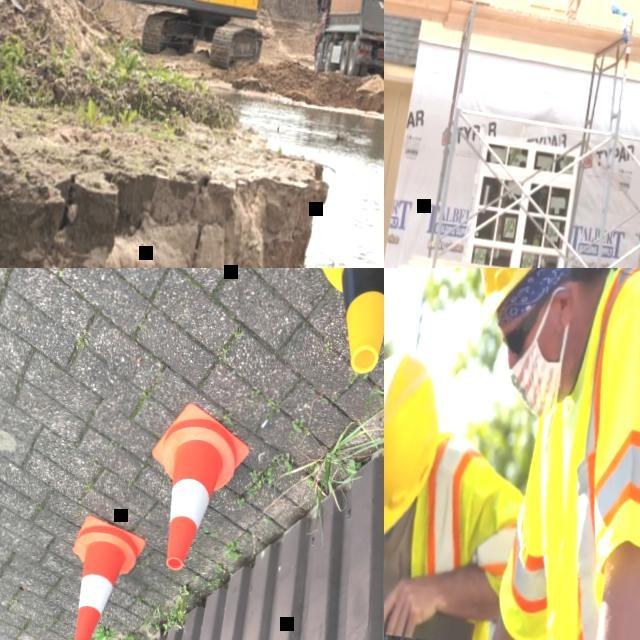Hardhat: (384, 346, 452, 546), (465, 268, 601, 341)
Mask: (502, 281, 578, 425)
Person: (416, 268, 640, 640), (384, 329, 543, 640)
Safety Cone: (128, 399, 257, 586), (55, 510, 149, 640), (279, 268, 384, 384)
Safety Vest: (492, 268, 640, 640), (384, 408, 529, 613)
machinery: (106, 0, 384, 96), (306, 0, 384, 89)
